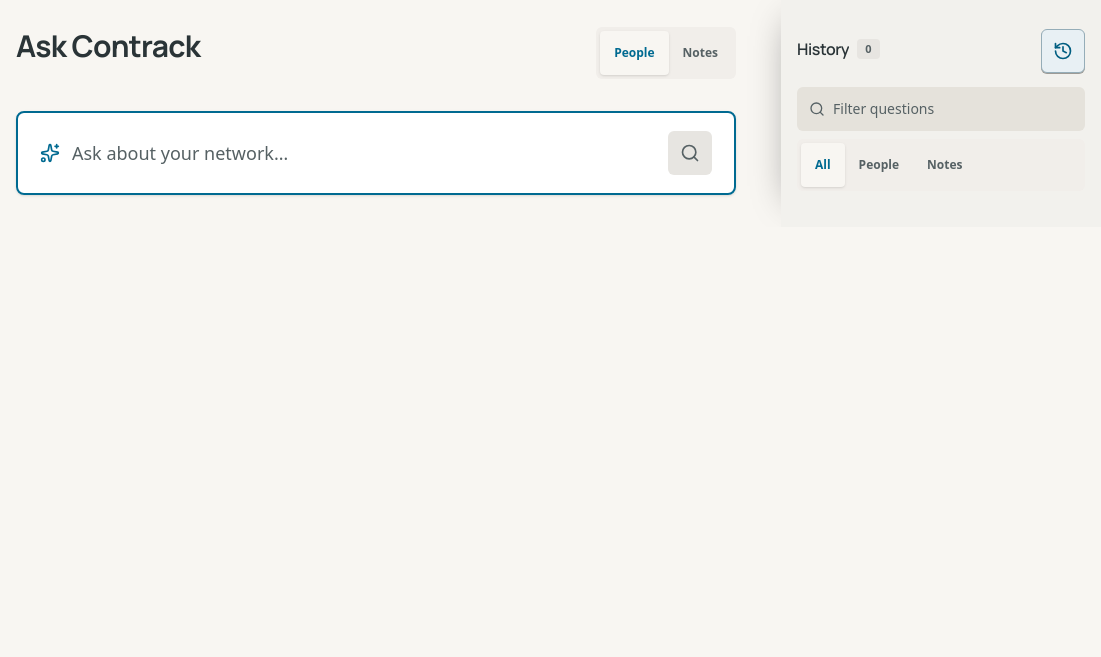
asking the same question again › offers Ask AI again beside a list AI could not check, for the answered question
Type "Who likes espresso?" into the field labelled "Ask about your network" at [342, 153], box [72,133,612,173]
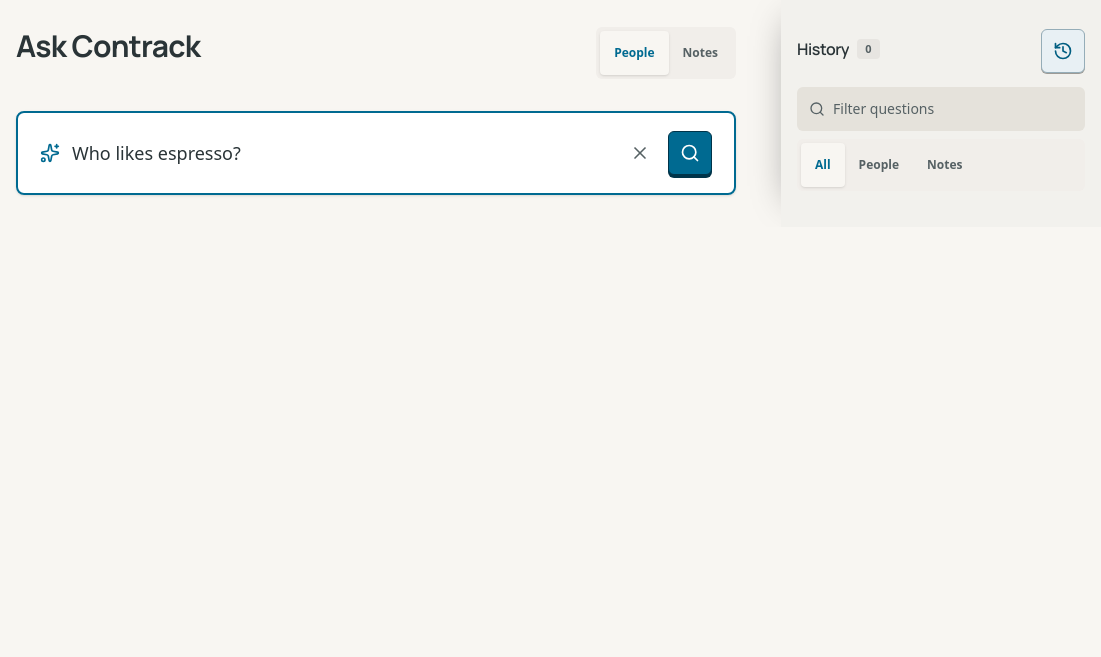
Press Enter in the field named "Ask about your network", box [72,133,612,173]
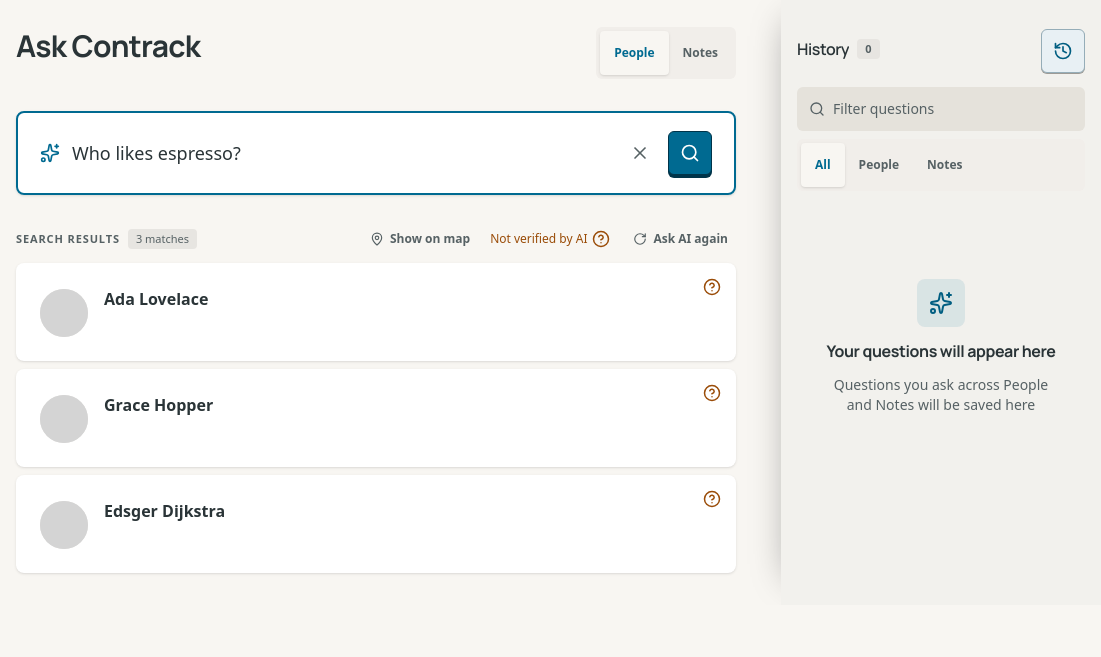
Result: the text "Ada Lovelace" is shown at [104,287,208,311]
Replace the text in the field named "Ask about your network" with "something else" at [342, 153], box [72,133,612,173]
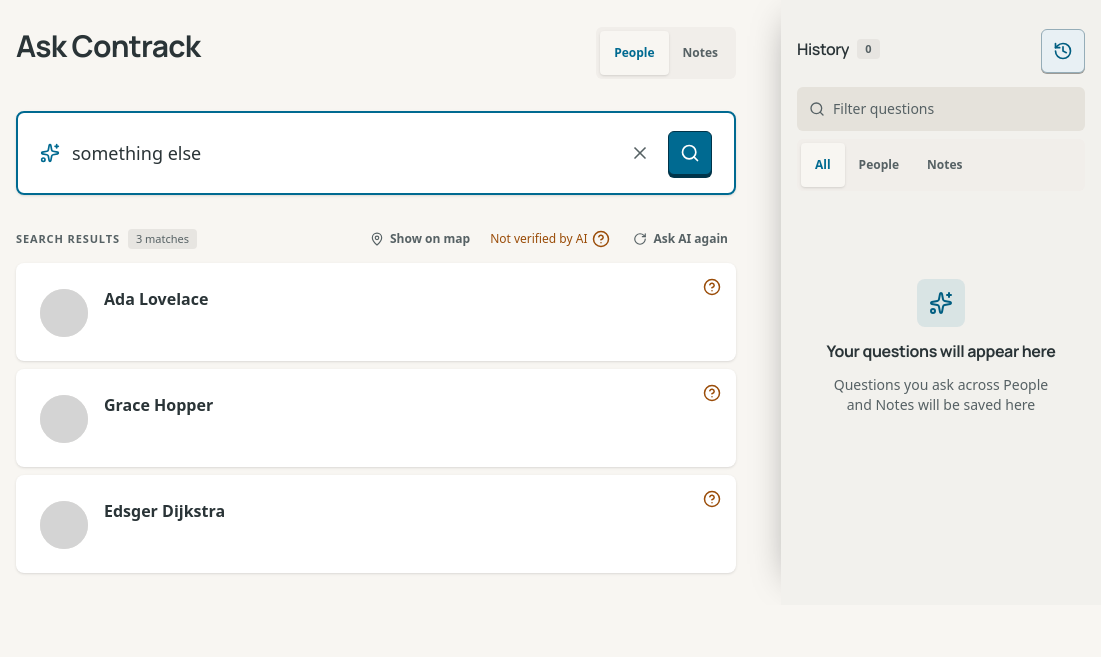
Click the button "Ask AI again" at [681, 239], box [626,227,736,251]
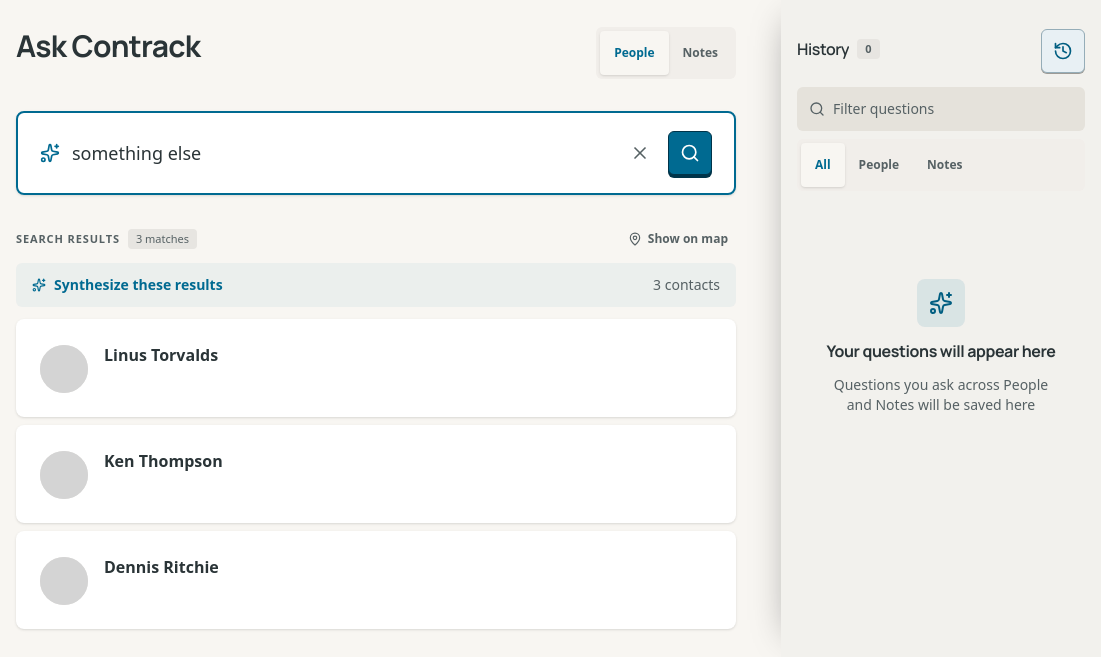
Result: the text "Linus Torvalds" is shown at [104,343,218,367]
Result: the button "Ask AI again" is gone
